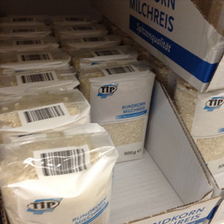rice: (1, 125, 117, 224), (81, 62, 156, 164), (173, 78, 224, 173)
